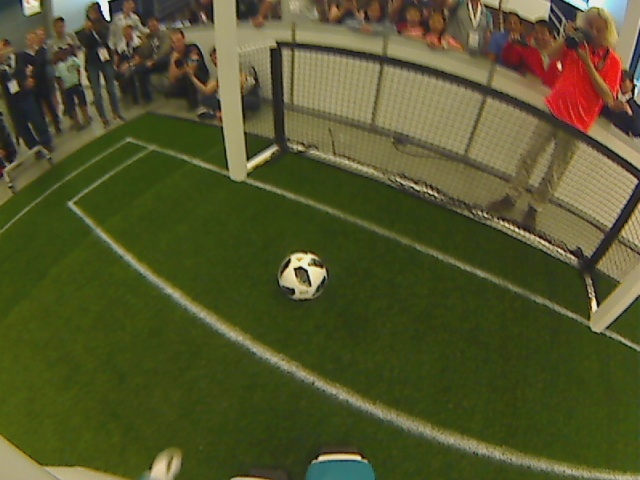ball: (275, 249, 327, 301)
